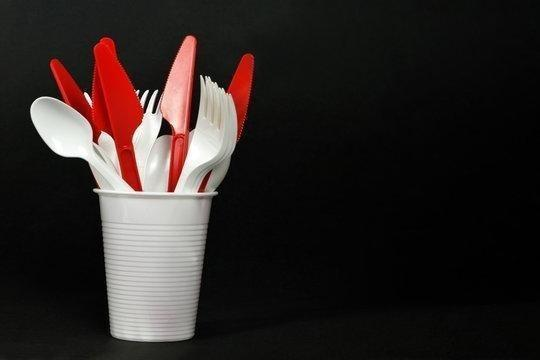cup-disposable: (91, 189, 219, 346)
